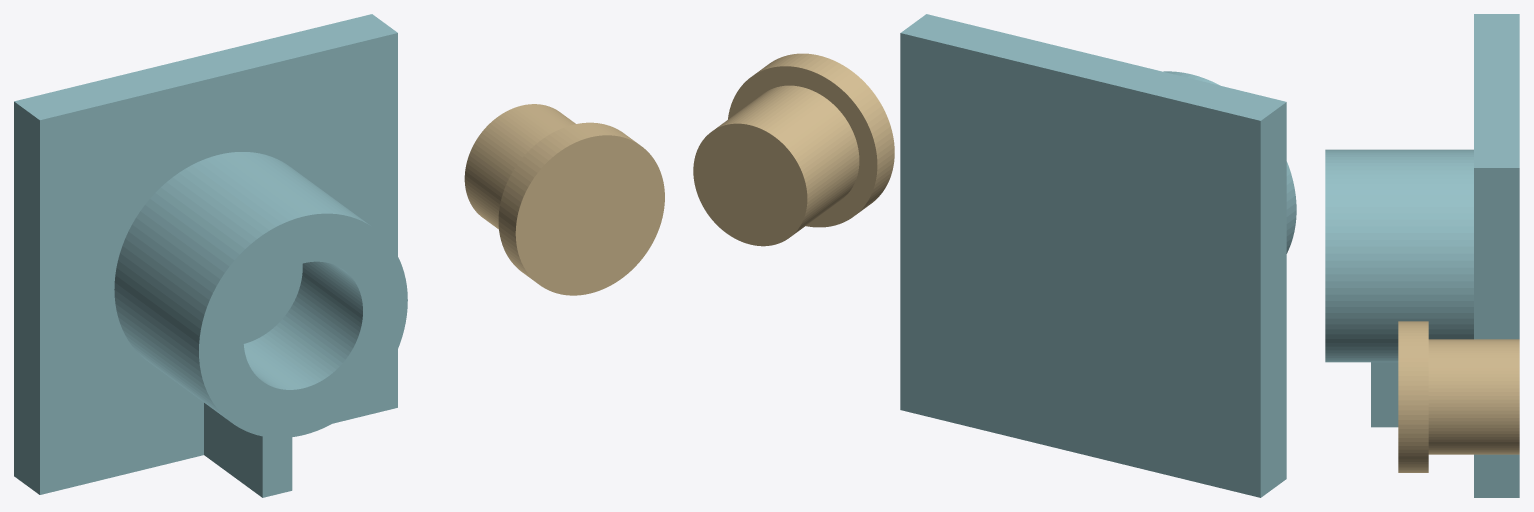
Rendered from assembly.glb.
3 views of the same model, side by side, from view 1: azimuth 30°, elevation 25°; view 2: azimuth 150°, elevation 25°; view 3: azimuth 270°, elevation 25° (orthographic). The views are drawn at different scales.
Parts seen in each view (by area): view 1: ribbed_socket, pin; view 2: ribbed_socket, pin; view 3: ribbed_socket, pin.
Part boxes in pixels (bbox=[...]): ribbed_socket: bbox=[14, 14, 407, 497]; pin: bbox=[464, 104, 664, 295]; ribbed_socket: bbox=[900, 14, 1296, 497]; pin: bbox=[693, 53, 894, 246]; ribbed_socket: bbox=[1325, 14, 1519, 497]; pin: bbox=[1398, 321, 1519, 472].
Size of the model in its own units: 0.039 by 0.024 by 0.0128.
